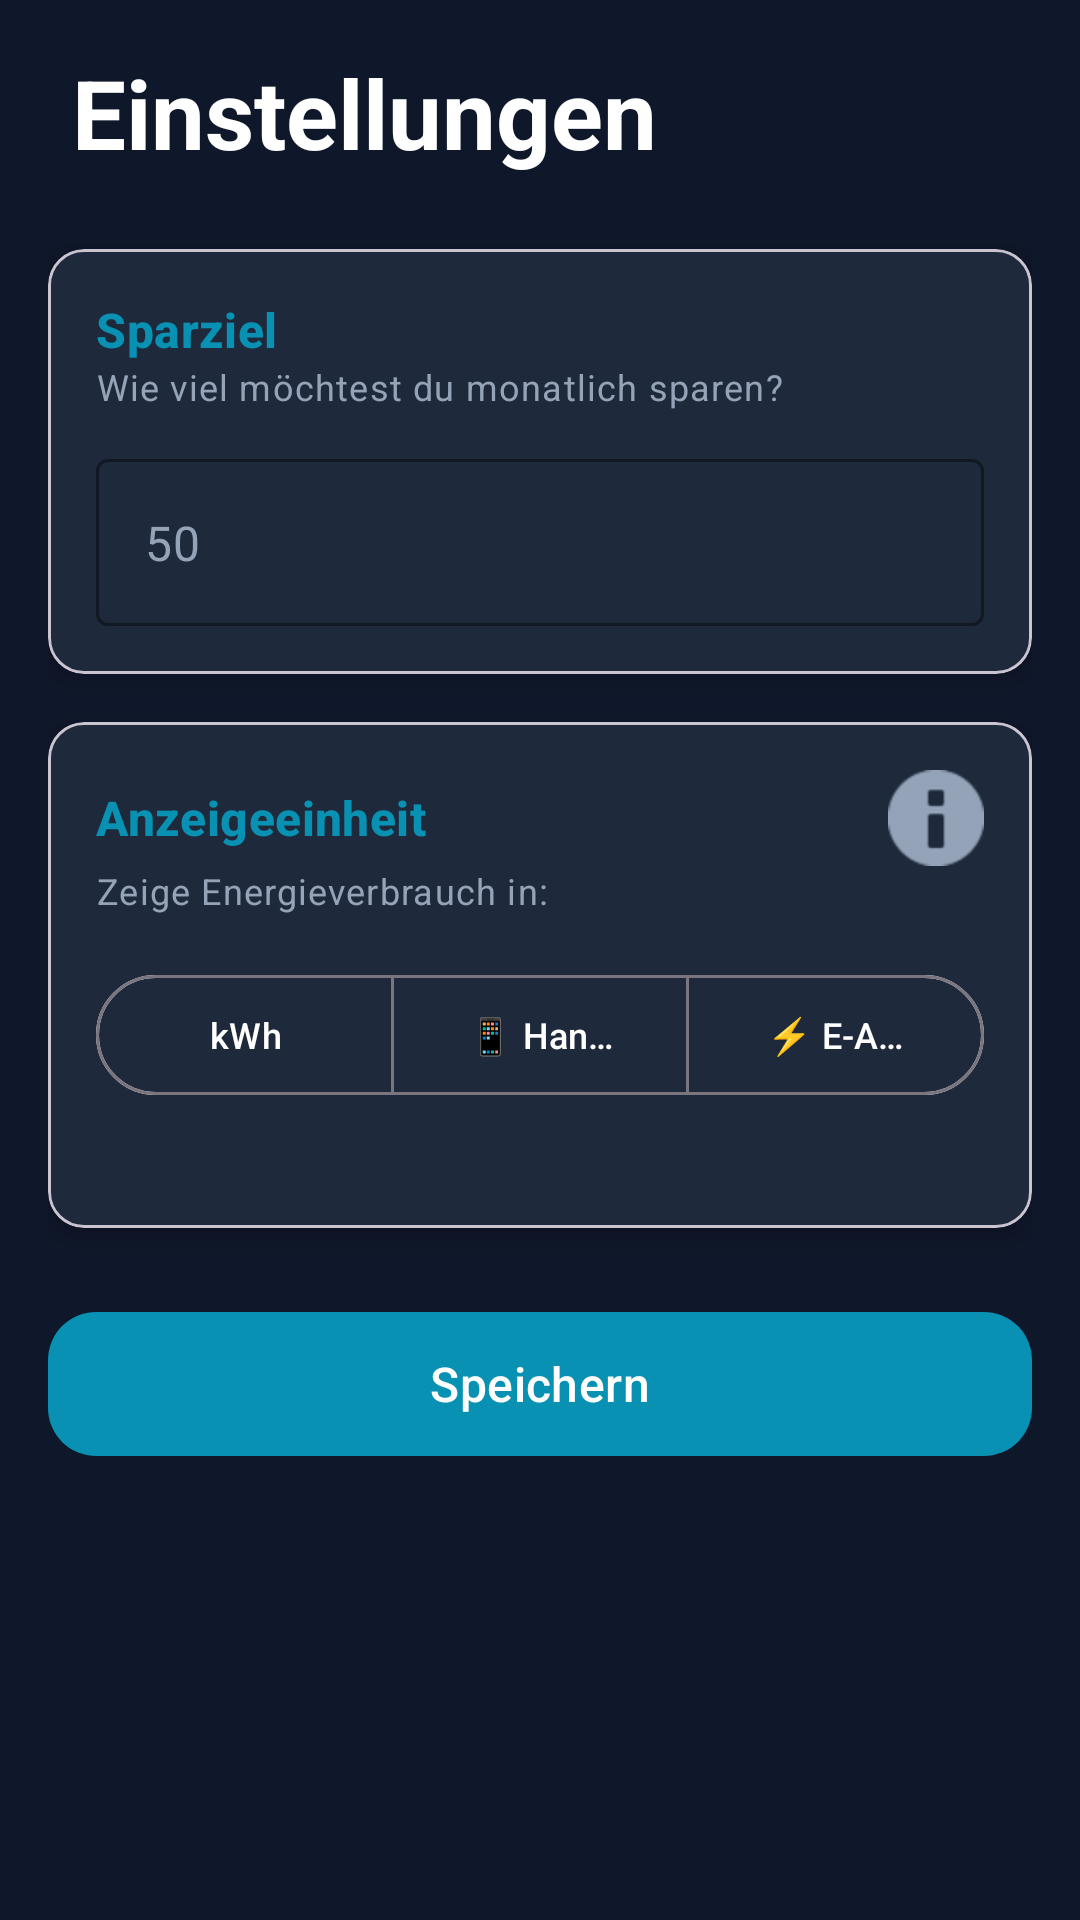

Icon bounding boxes for this 1080x1920 phone screenshot, format bbox=[x1, y1, x2, y2]:
Info: bbox=[888, 770, 984, 866]
